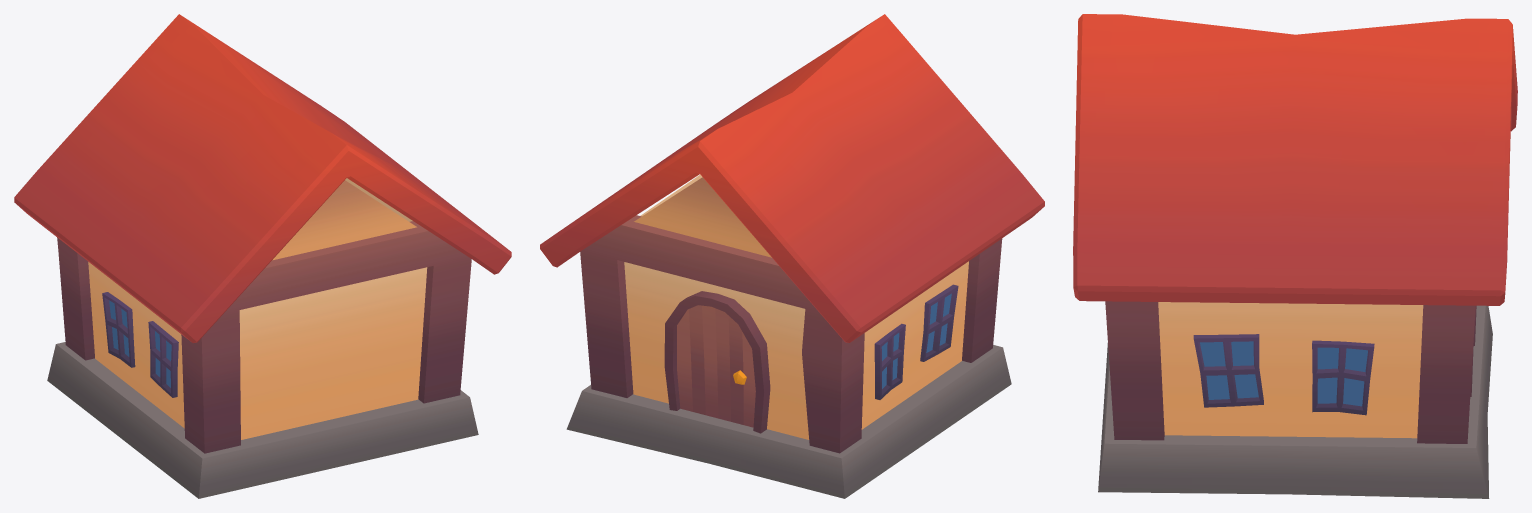
The model's file is village_town_house_red.glb.
3 views of the same model, side by side, from view 1: azimuth 30°, elevation 25°; view 2: azimuth 150°, elevation 25°; view 3: azimuth 270°, elevation 25° (orthographic). The views are drawn at different scales.
Parts seen in each view (by area): view 1: House_Red.001_Material.005_0; view 2: House_Red.001_Material.005_0; view 3: House_Red.001_Material.005_0.
Boxes of the visible parts, x1,y1,x2,y2 form: House_Red.001_Material.005_0: (14,14,511,498); House_Red.001_Material.005_0: (540,14,1044,498); House_Red.001_Material.005_0: (1073,14,1517,498).
Bounding box in the file's own units: 4.05 × 3.81 × 3.87.
Materials: 1 (1 with a texture image).
